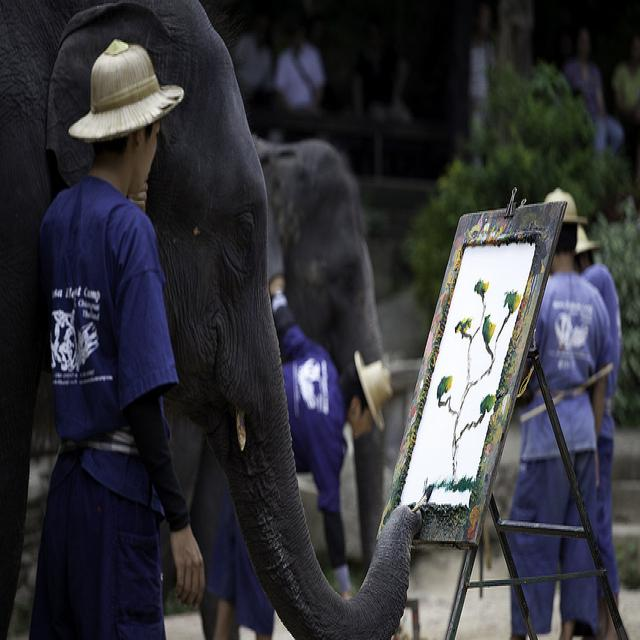Elephant: (0, 0, 423, 639)
person: (28, 37, 206, 638), (506, 187, 614, 638), (572, 222, 622, 638), (206, 488, 274, 638), (273, 13, 326, 111)
